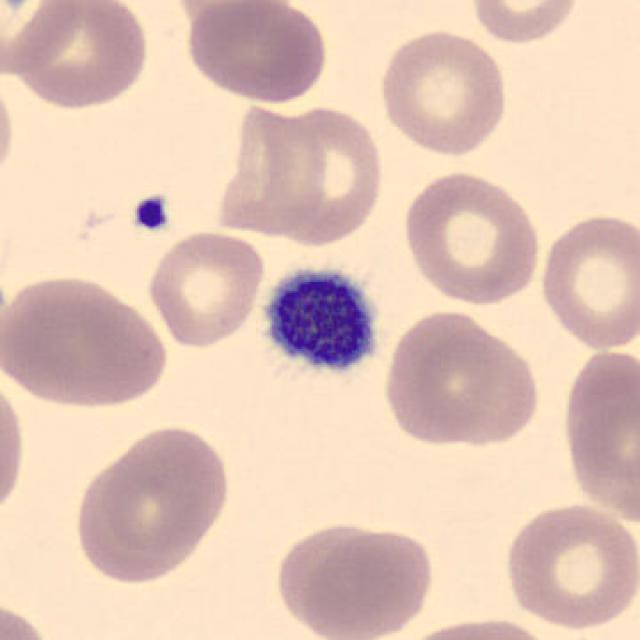Platelets: (249, 256, 389, 390), (128, 190, 174, 234)
RBC: (77, 422, 235, 590), (2, 270, 172, 412), (379, 307, 544, 451), (398, 166, 544, 307), (276, 522, 439, 640), (260, 100, 388, 247), (500, 499, 638, 633), (375, 24, 512, 158), (5, 0, 153, 111), (180, 0, 330, 106), (556, 340, 638, 527), (535, 208, 638, 353), (144, 228, 267, 349), (0, 0, 84, 76), (466, 0, 583, 46), (0, 368, 30, 524), (393, 613, 562, 640), (165, 0, 295, 32), (0, 68, 20, 195), (0, 596, 55, 640)
